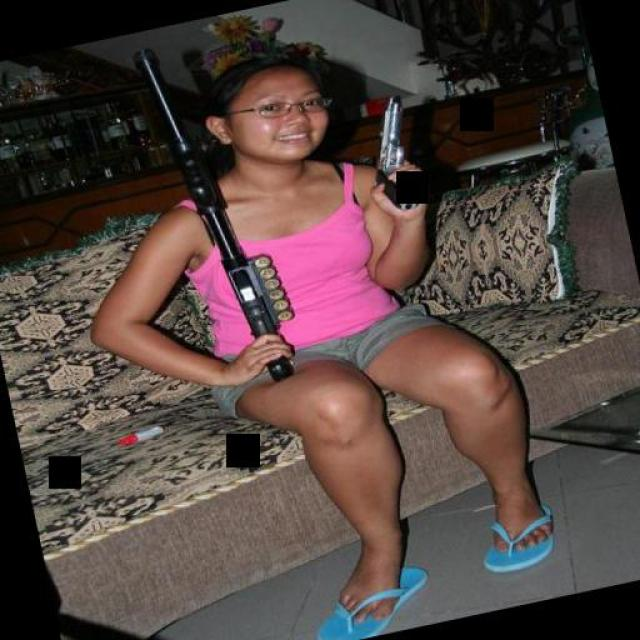gun: (346, 85, 444, 219)
